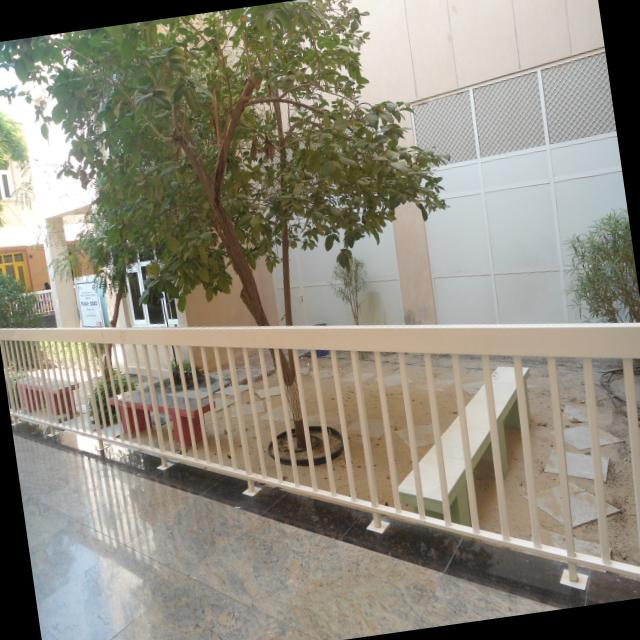bench: (386, 342, 550, 522), (101, 366, 226, 469), (5, 354, 91, 424)
railing: (0, 220, 640, 640), (0, 277, 64, 324)
tree-chair-bench-table-wall: (0, 0, 454, 499), (548, 201, 640, 586)
window: (110, 229, 186, 335)
